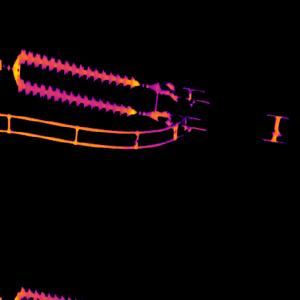insulator: (16, 44, 140, 117)
